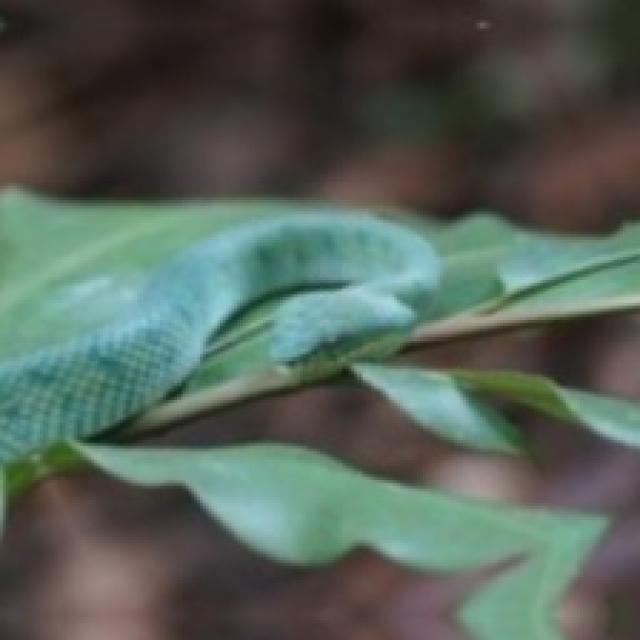north ph temple pitviper: (0, 211, 437, 463)
